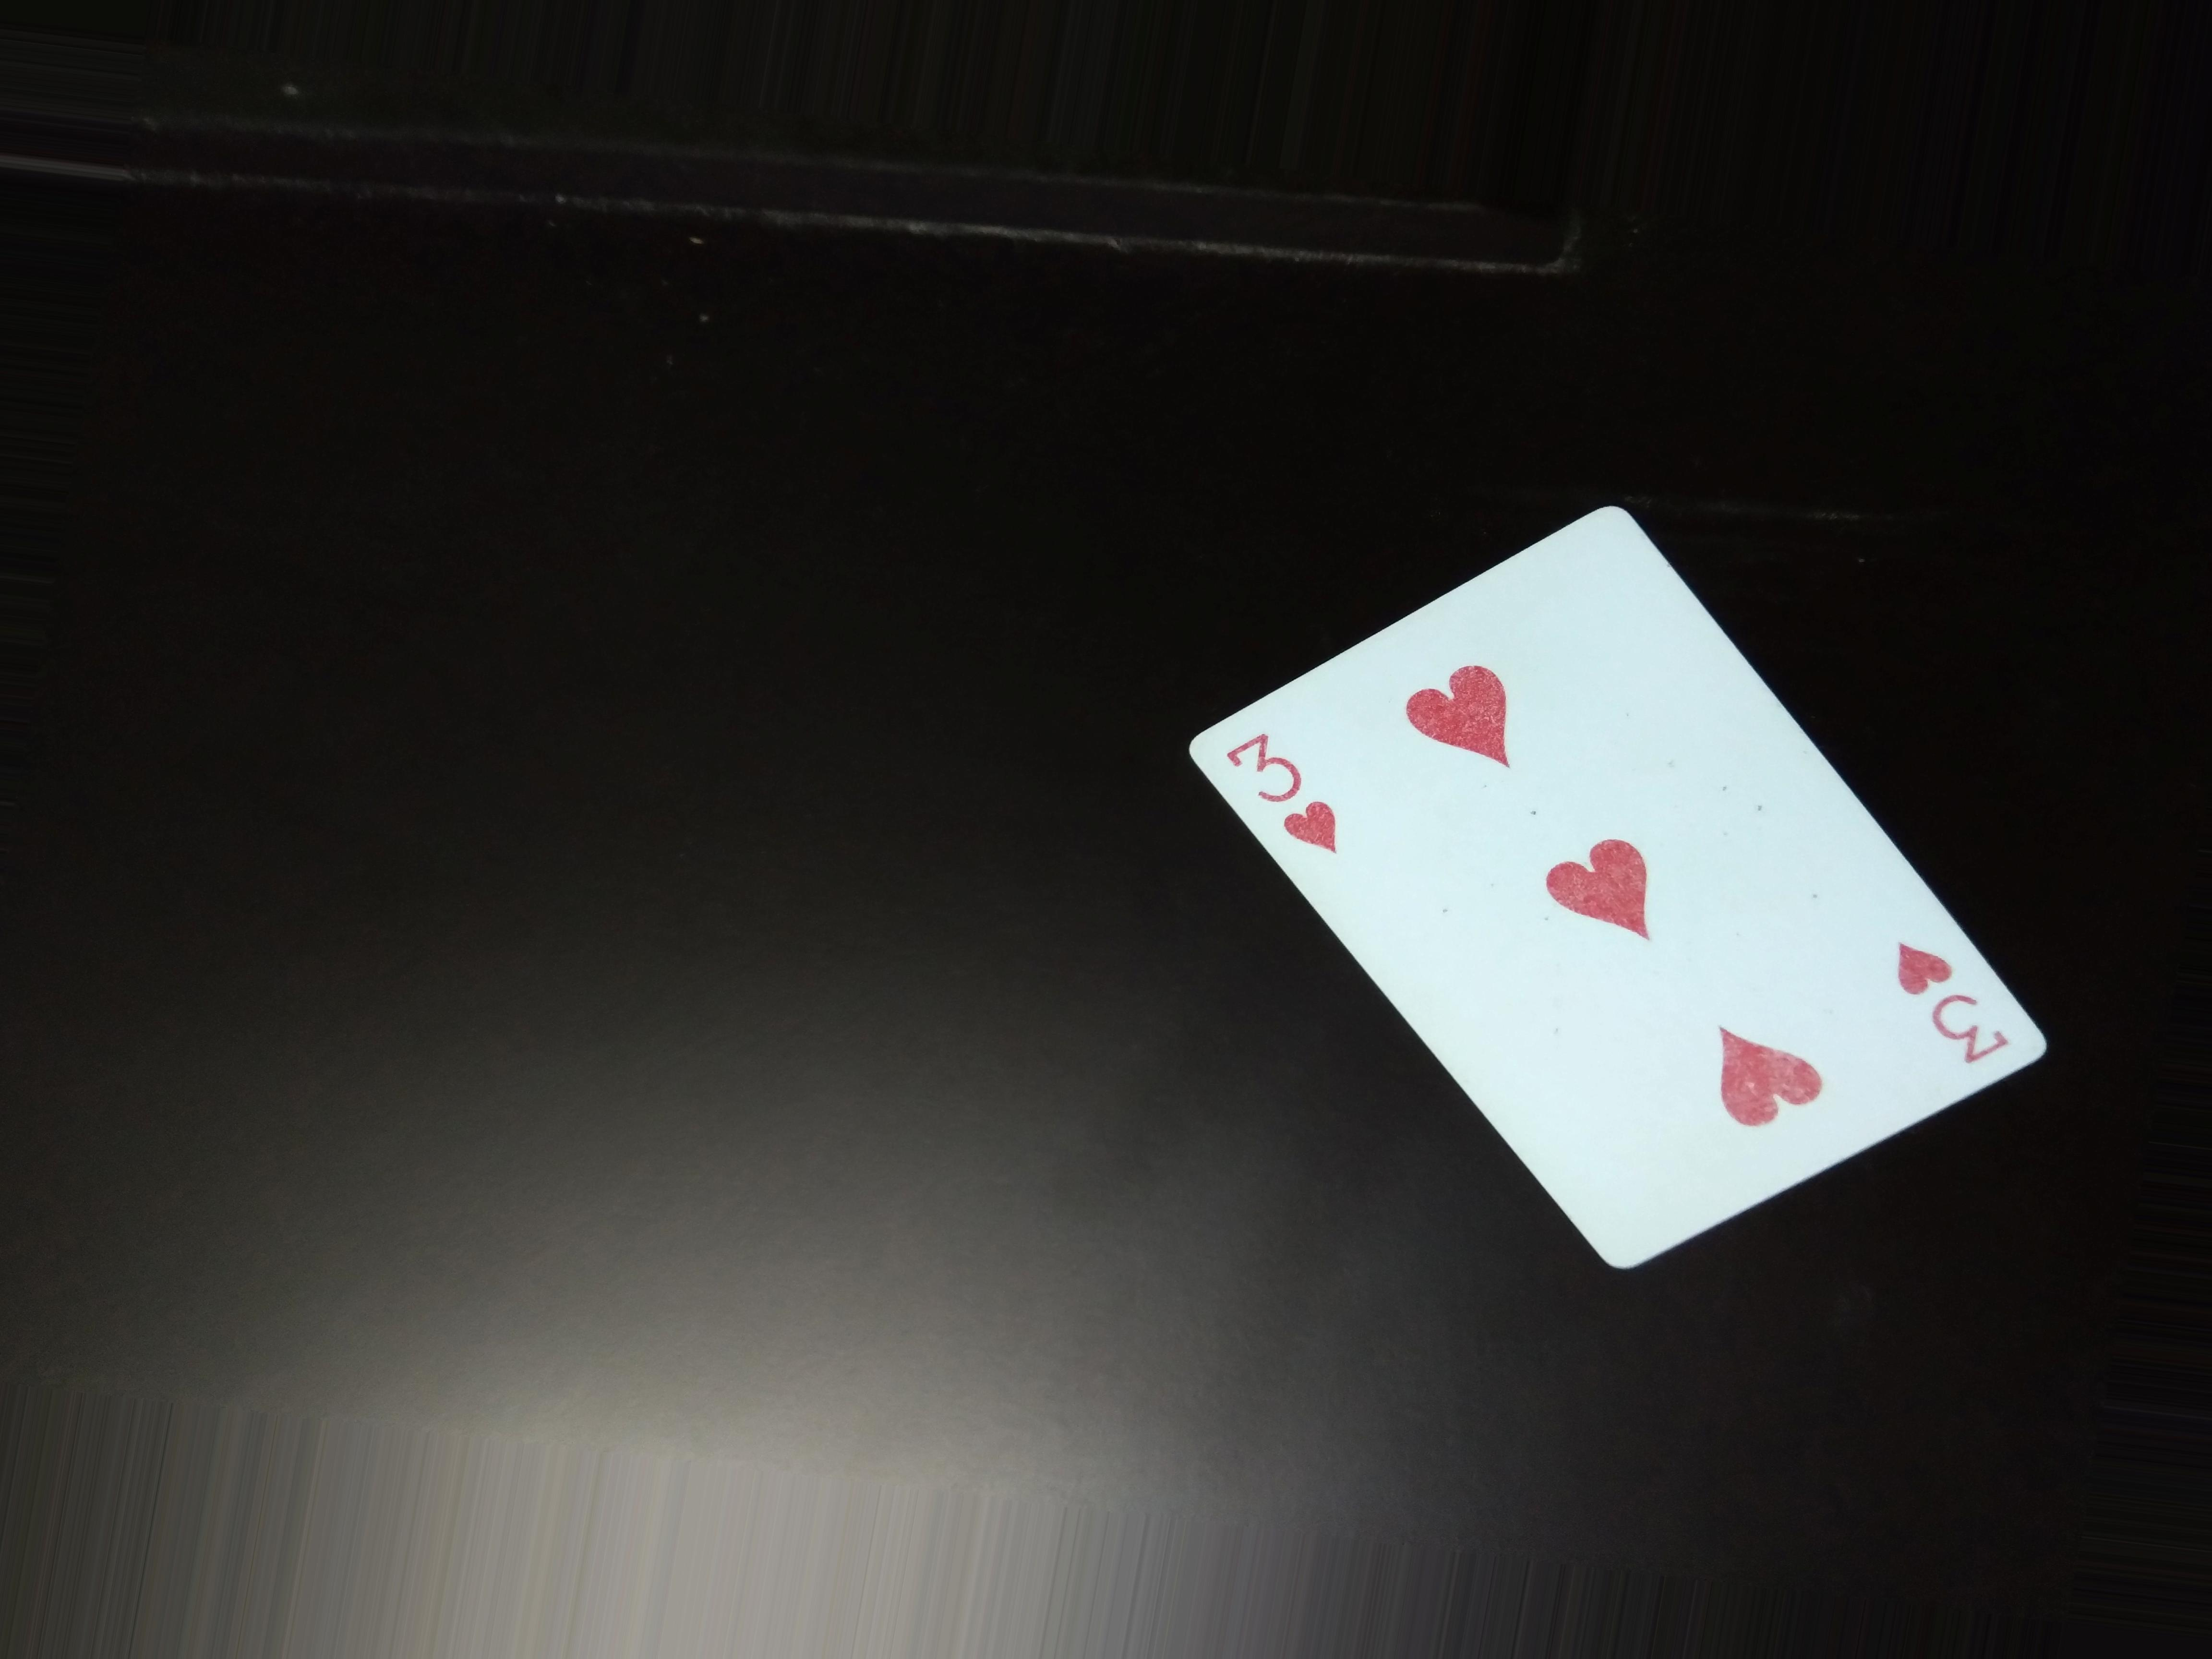3H: (1207, 728, 1348, 866)
